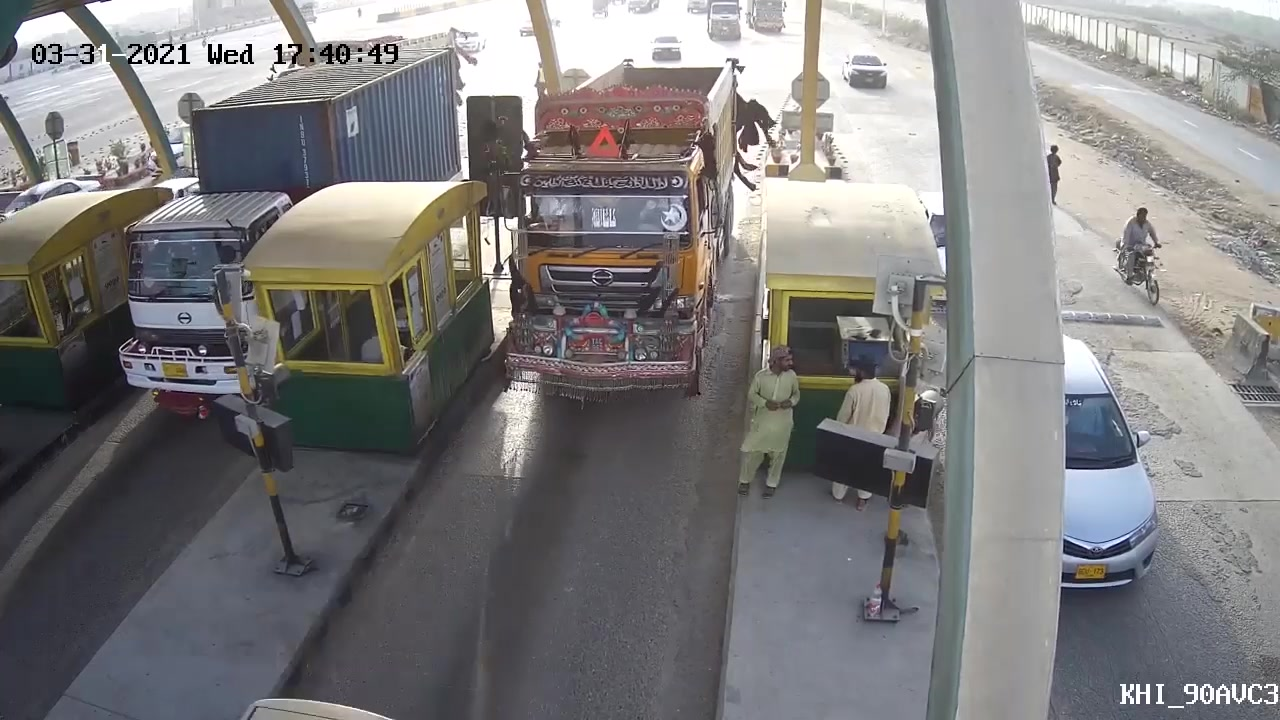F5: (487, 45, 755, 426)
